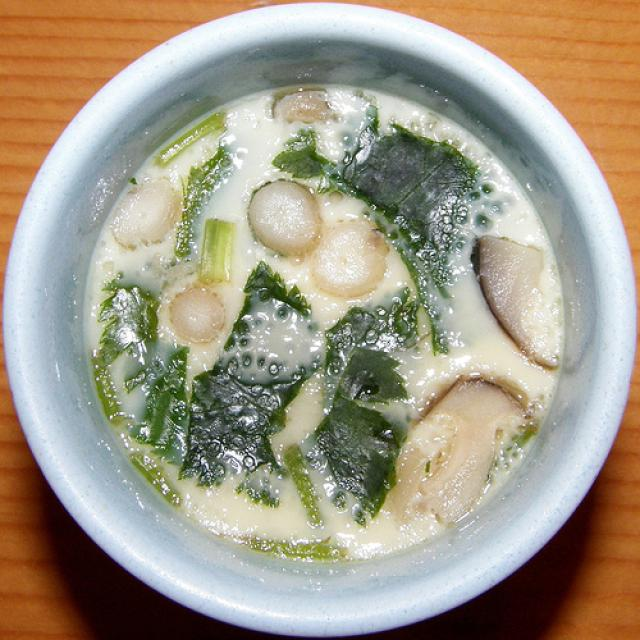鸡蛋料理: (22, 51, 604, 609)
